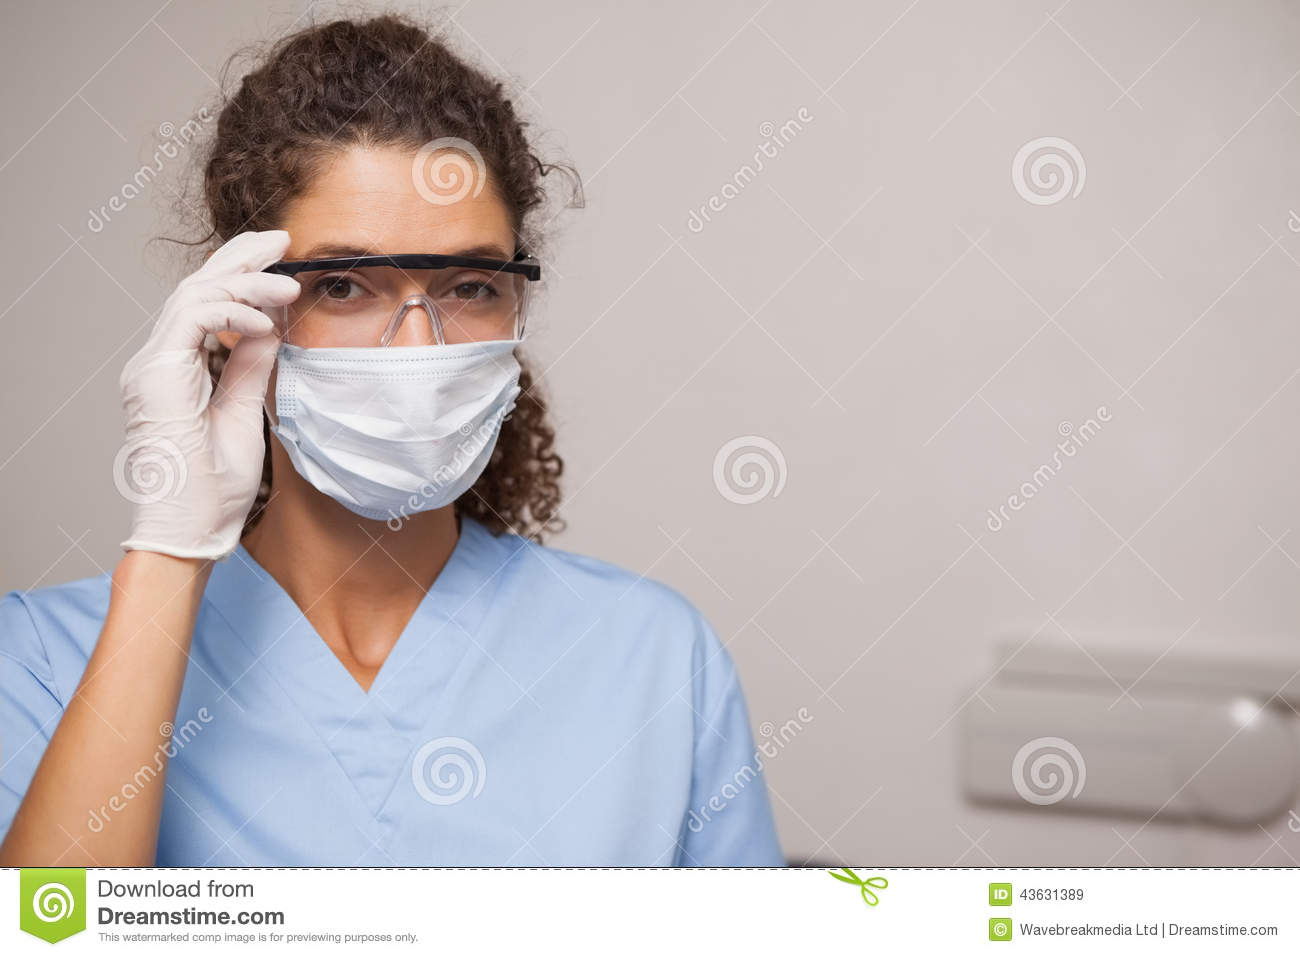mask: (258, 330, 542, 536)
